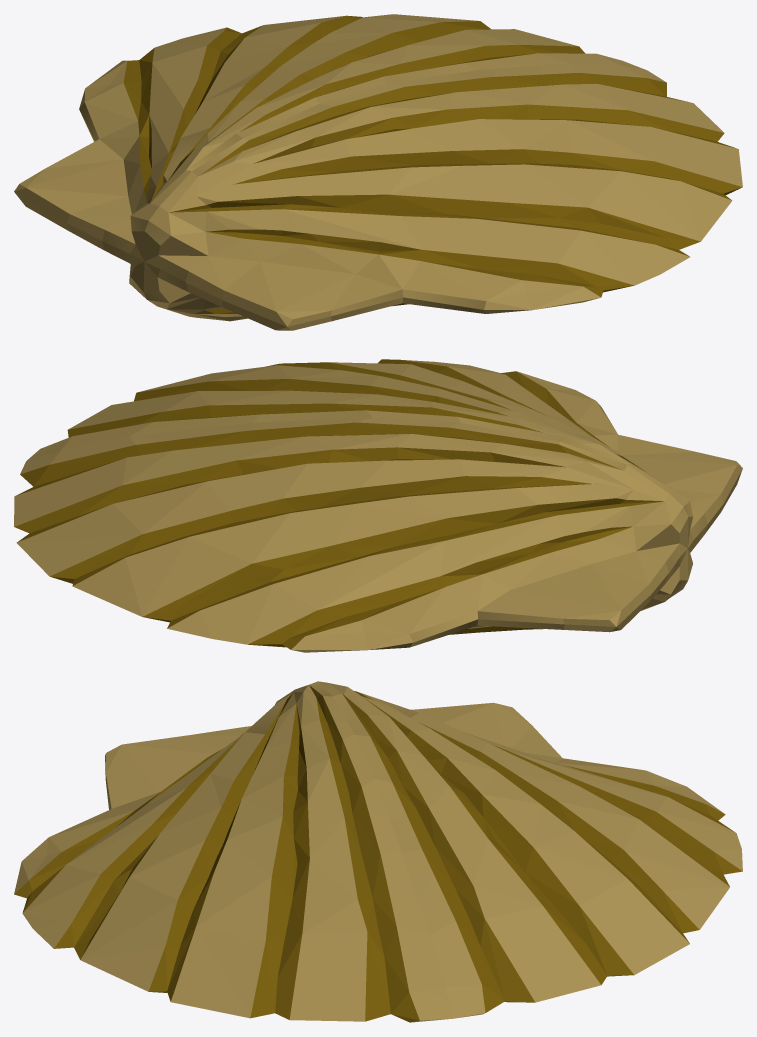
The model's file is Beike.fbx.
The picture shows the model from 3 angles, top to bottom: view 1: azimuth 30°, elevation 25°; view 2: azimuth 150°, elevation 25°; view 3: azimuth 270°, elevation 25°; orthographic projection. The views are drawn at different scales.
Parts seen in each view (by area): view 1: samor_2025_10; view 2: samor_2025_10; view 3: samor_2025_10.
Boxes of the visible parts, <box> form: samor_2025_10: <box>14,14,742,330</box>; samor_2025_10: <box>14,359,742,652</box>; samor_2025_10: <box>14,681,742,1022</box>.
Size of the model in its own units: 216 by 62.91 by 219.
